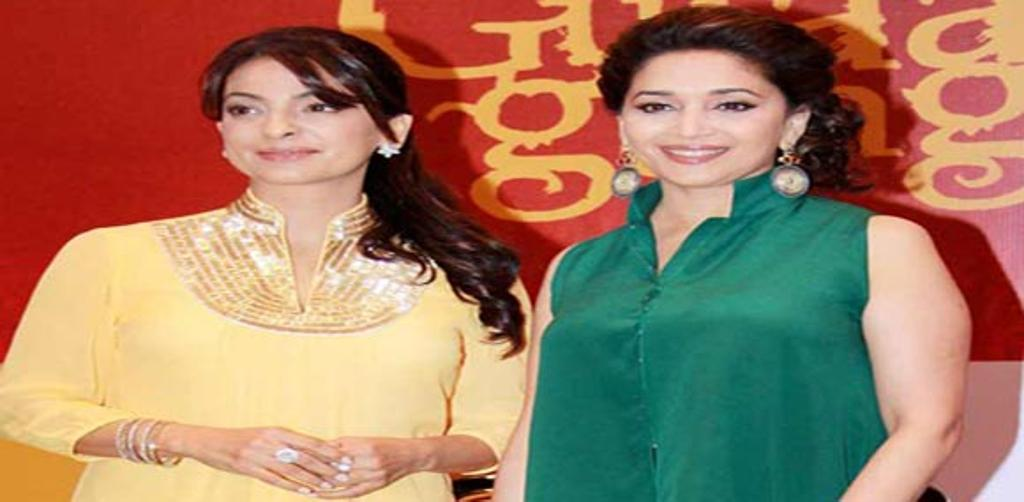face: (622, 48, 786, 184), (222, 56, 380, 184)
